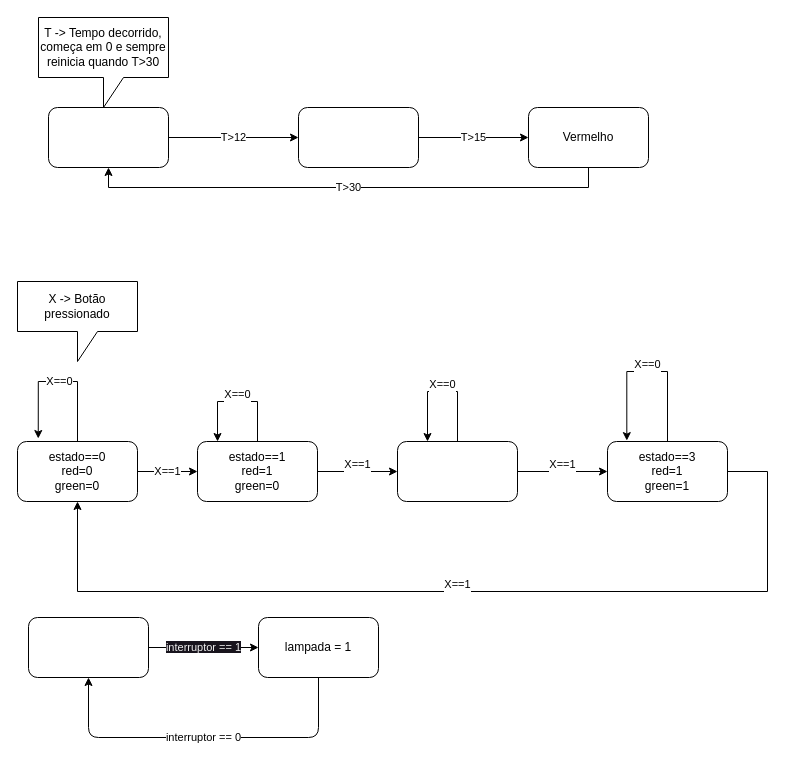
The diagram is 793 pixels wide and 763 high, and some of its shapes have lost their labels. Each missing label, with the box of its shape:
Amarelo: (298, 106, 418, 168)
estado==2 red=0 green=1: (396, 440, 518, 502)
lampada = 0: (28, 616, 148, 678)
Verde: (48, 106, 168, 168)
